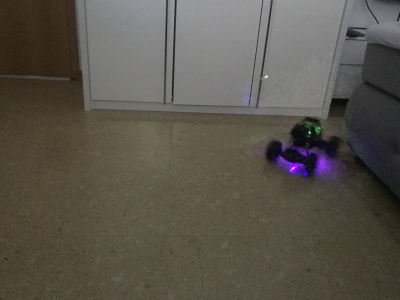remote control car: (262, 113, 343, 179)
